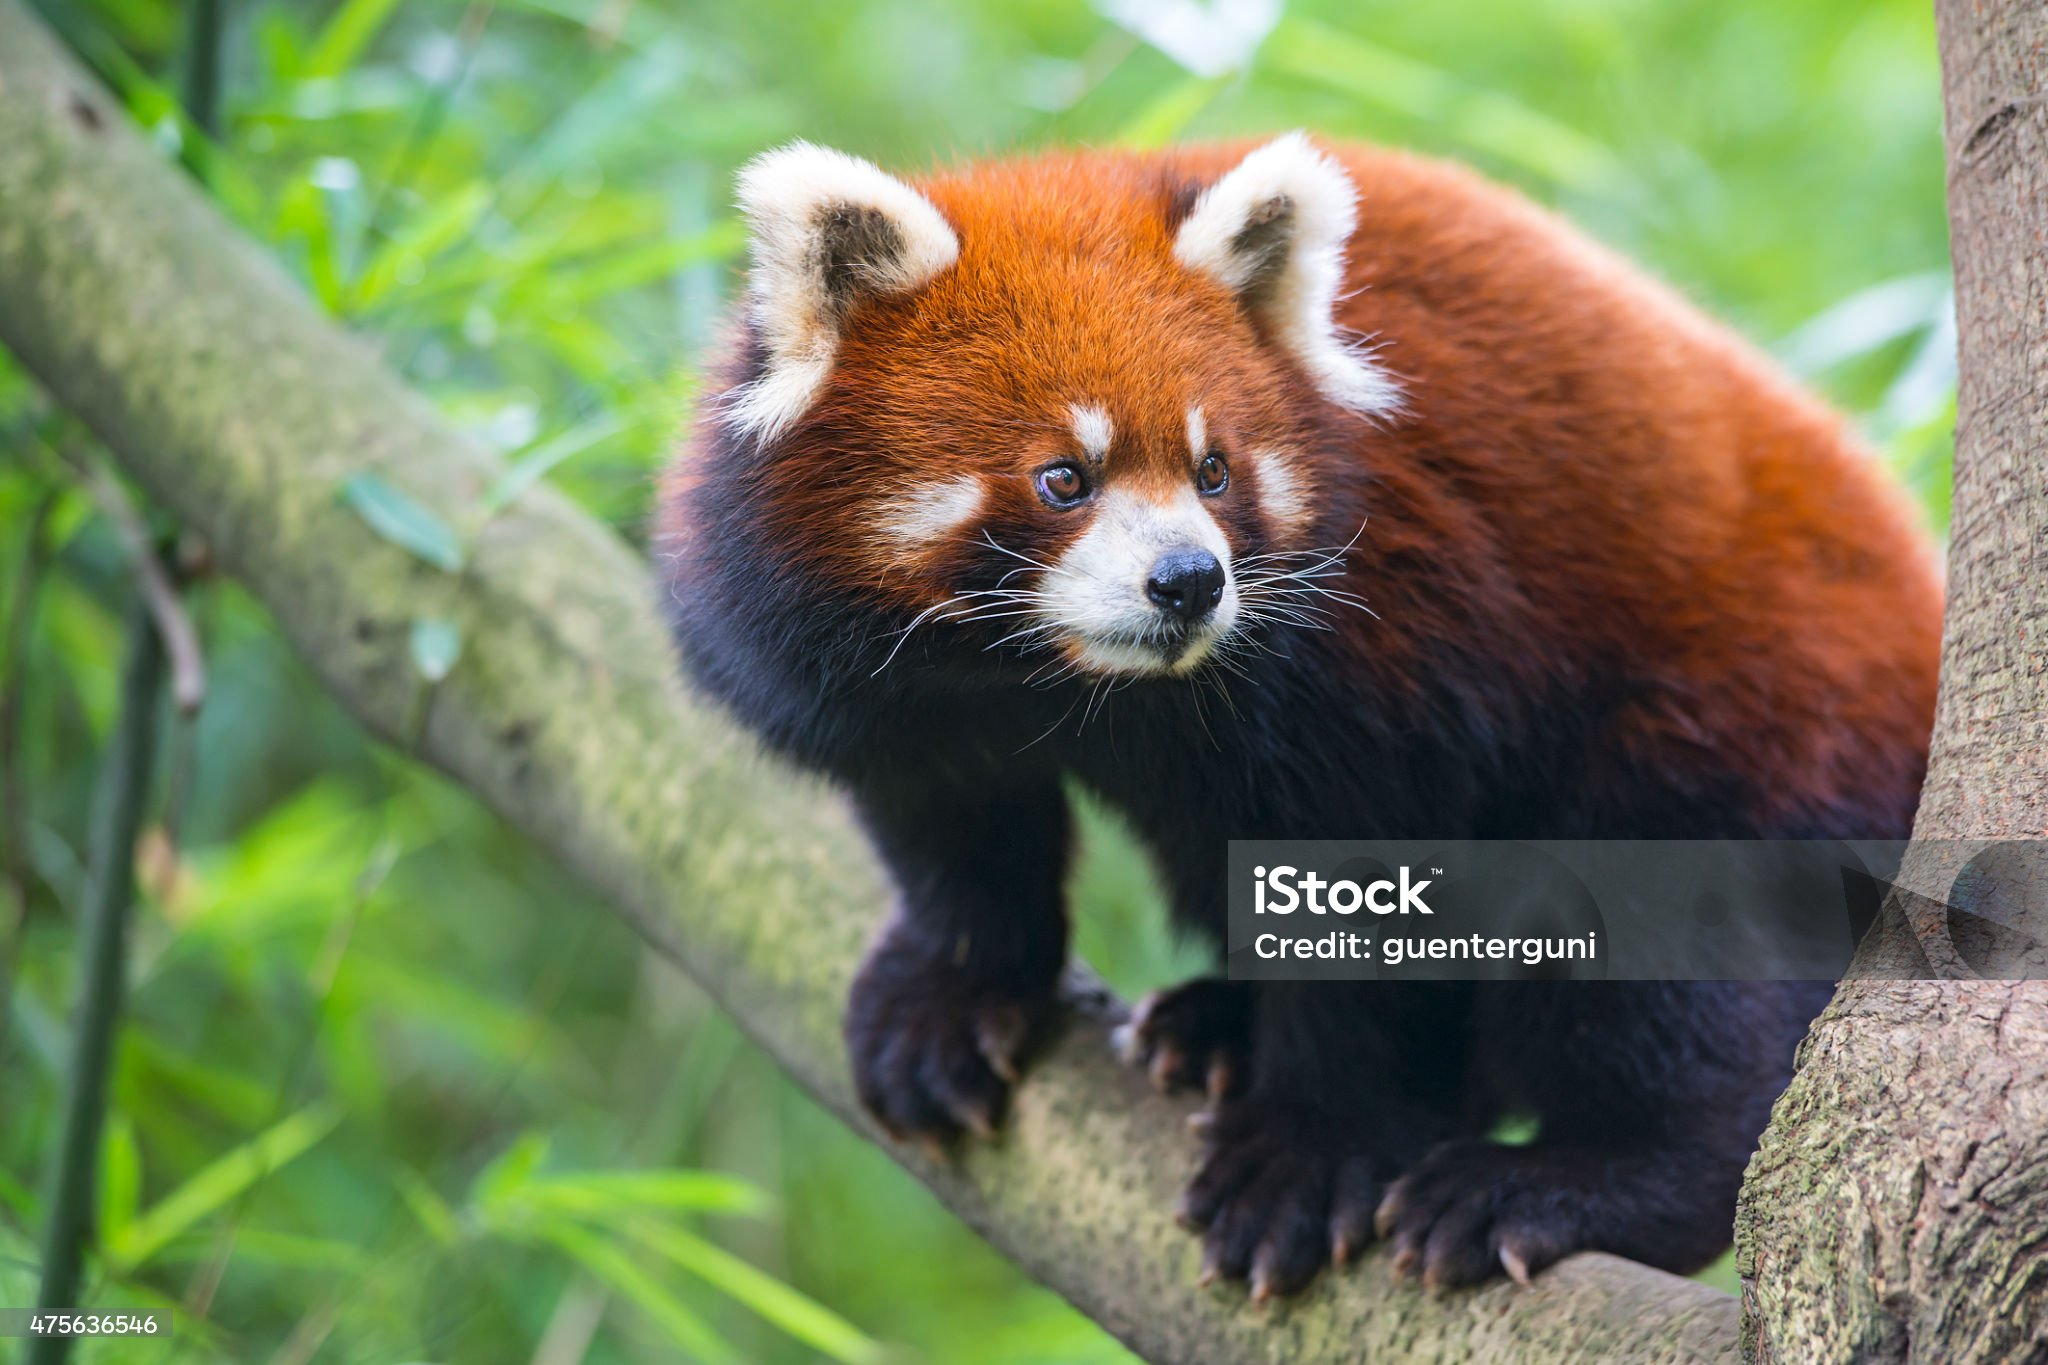Red panda: (700, 142, 1399, 705)
